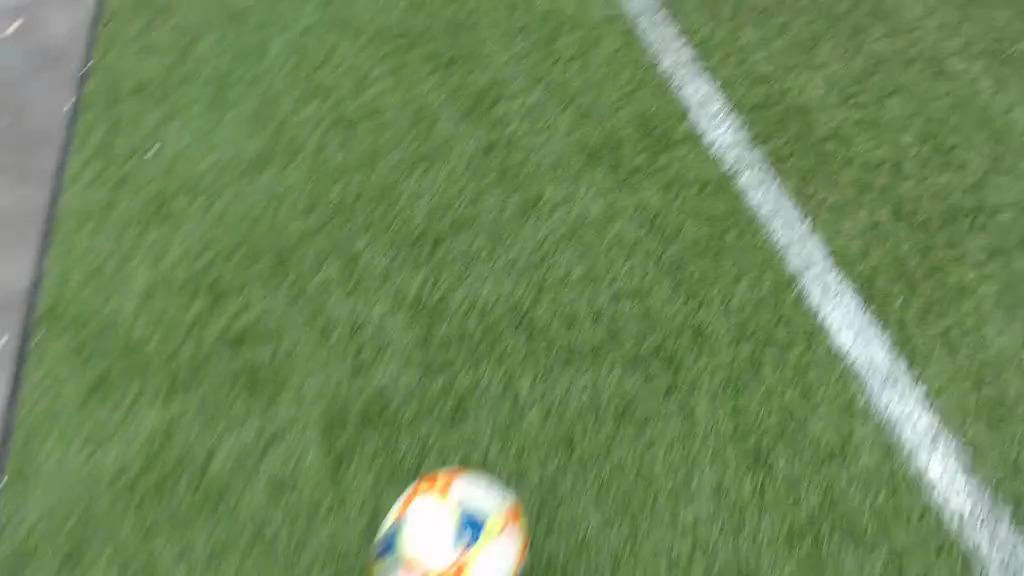ball: (370, 466, 528, 576)
